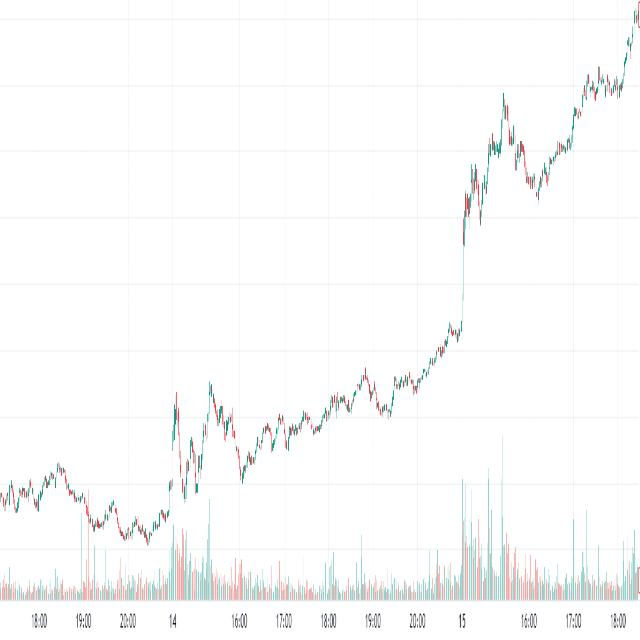Descending-Triangle: (204, 365, 246, 437)
Head-Shoulders: (482, 82, 539, 208)
